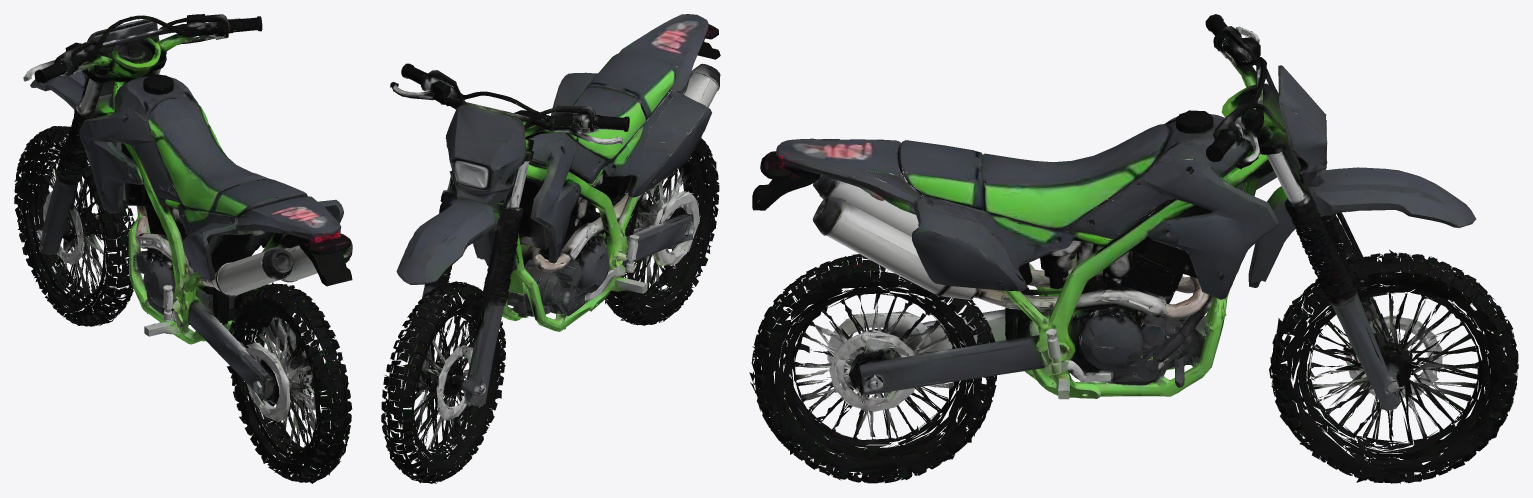
Rendered from bike_bestia.glb.
3 views of the same model, side by side, from view 1: azimuth 30°, elevation 25°; view 2: azimuth 150°, elevation 25°; view 3: azimuth 270°, elevation 25° (orthographic). The views are drawn at different scales.
Parts seen in each view (by area): view 1: bike_body, wheel_r, wheel_f; view 2: bike_body, wheel_f, wheel_r; view 3: bike_body, wheel_f, wheel_r.
Boxes of the visible parts, x1,y1,x2,y2 form: bike_body: (23, 14, 352, 394); wheel_r: (220, 279, 352, 483); wheel_f: (14, 126, 134, 326); bike_body: (390, 14, 720, 335); wheel_f: (381, 277, 508, 483); wheel_r: (597, 137, 719, 325); bike_body: (752, 14, 1476, 399); wheel_f: (1269, 244, 1518, 483); wheel_r: (749, 254, 996, 483).
Bounding box in the file's own units: 1.1 × 1.55 × 2.6.
Materials: 1 (1 with a texture image).
